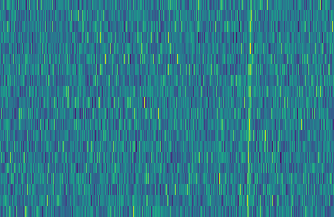signal: (244, 0, 256, 217)
